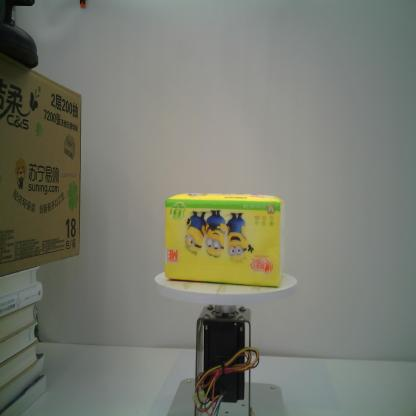Tissue: (164, 191, 287, 290)
